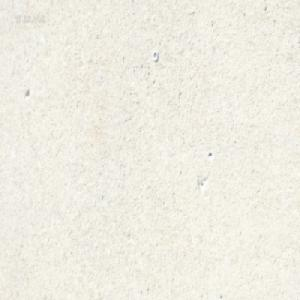Washer: (151, 49, 158, 61)
